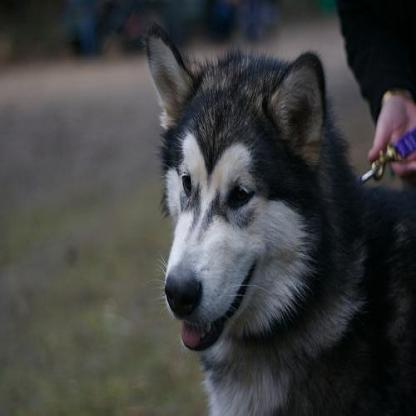malamute: (142, 20, 414, 413)
